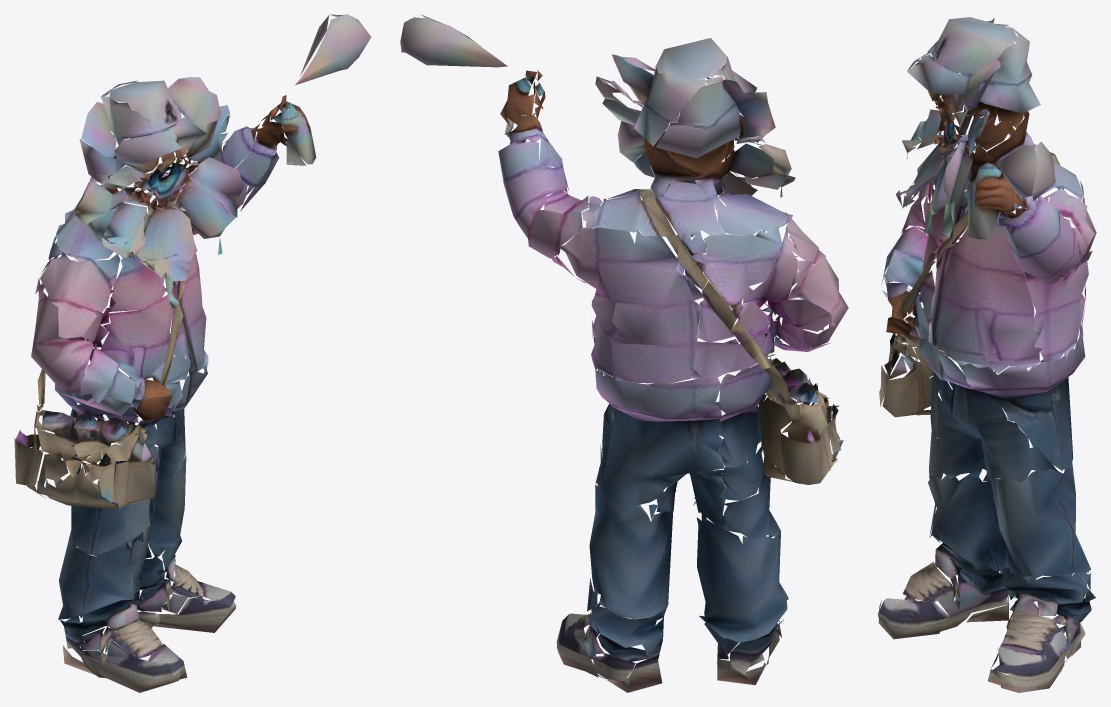
File: crowd_writer.glb
The picture shows the model from 3 angles, left to right: view 1: azimuth 30°, elevation 25°; view 2: azimuth 150°, elevation 25°; view 3: azimuth 270°, elevation 25°; orthographic projection. The views are drawn at different scales.
Visible parts, largest first — view 1: tripo_node_a171b73f-355f-4e3c-badd-fdc2f2bb58a7; view 2: tripo_node_a171b73f-355f-4e3c-badd-fdc2f2bb58a7; view 3: tripo_node_a171b73f-355f-4e3c-badd-fdc2f2bb58a7.
Part boxes in pixels (x1,y1,x2,y2): tripo_node_a171b73f-355f-4e3c-badd-fdc2f2bb58a7: (14,14,371,692); tripo_node_a171b73f-355f-4e3c-badd-fdc2f2bb58a7: (400,14,848,692); tripo_node_a171b73f-355f-4e3c-badd-fdc2f2bb58a7: (878,17,1096,692).
Bounding box in the file's own units: 1.28 × 1.89 × 0.603.
Materials: 1 (1 with a texture image).
